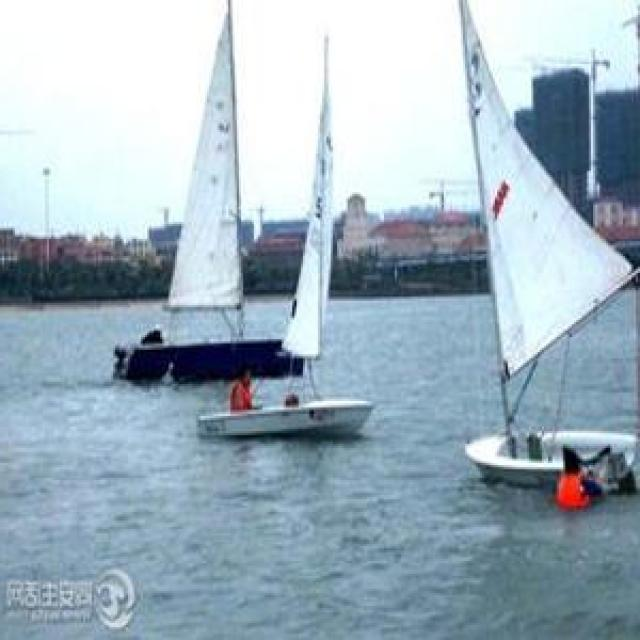sailboat: (462, 0, 640, 494), (196, 33, 372, 437), (112, 2, 296, 381)
